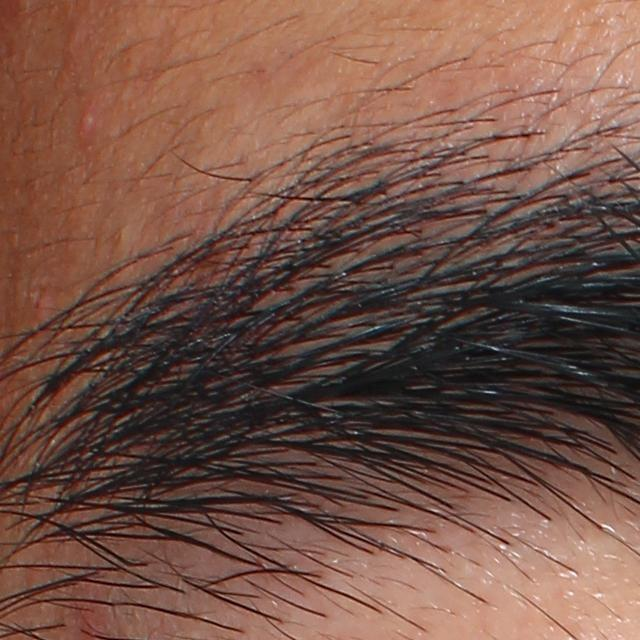papule: (73, 107, 98, 138)
